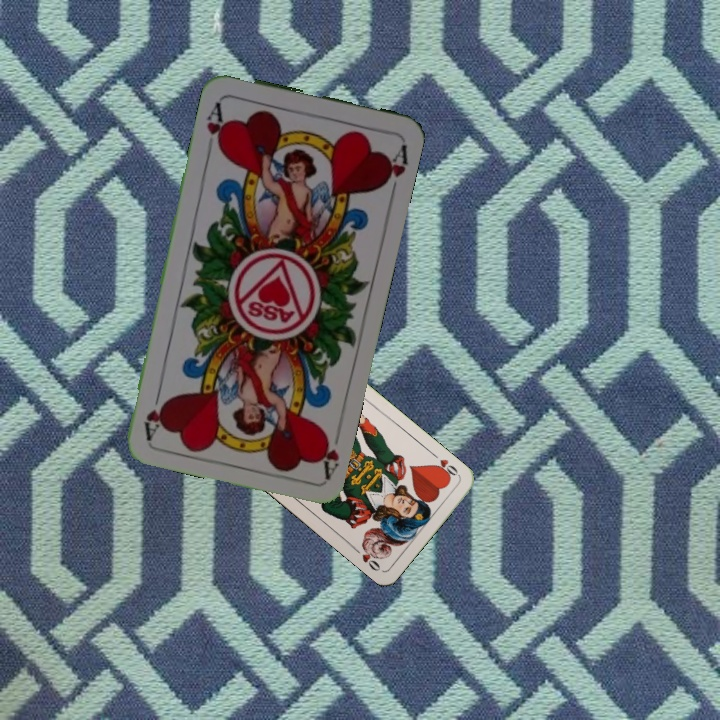HA: (313, 422, 344, 480), (202, 98, 229, 152)
HO: (428, 449, 462, 481)
